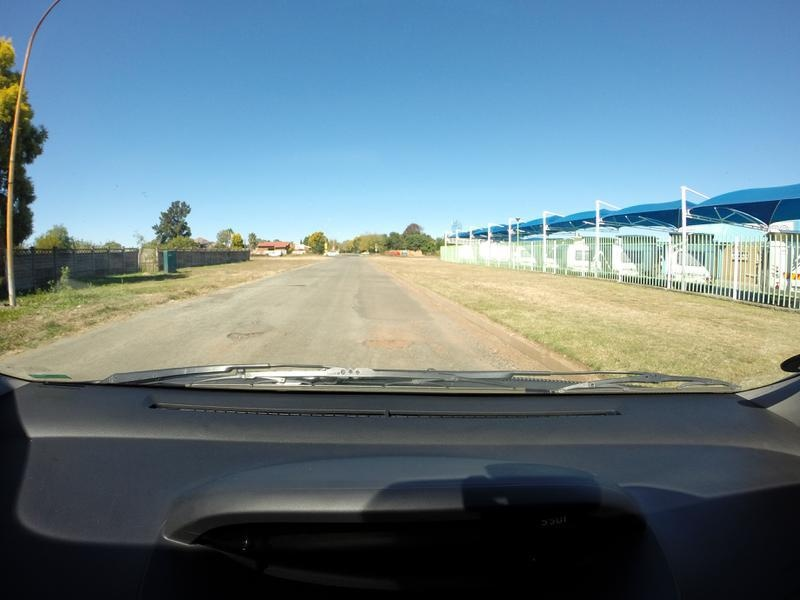pothole: (360, 337, 405, 348), (226, 328, 262, 339), (283, 284, 305, 286)
